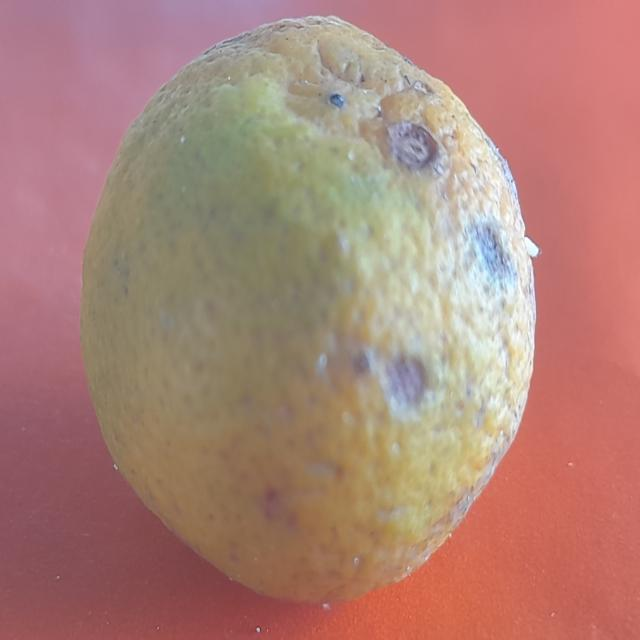black spot: (84, 32, 546, 607)
